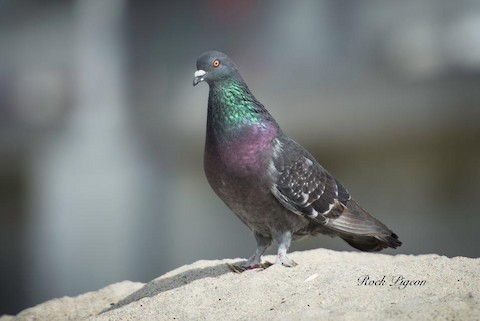pigeon: (182, 45, 406, 278)
